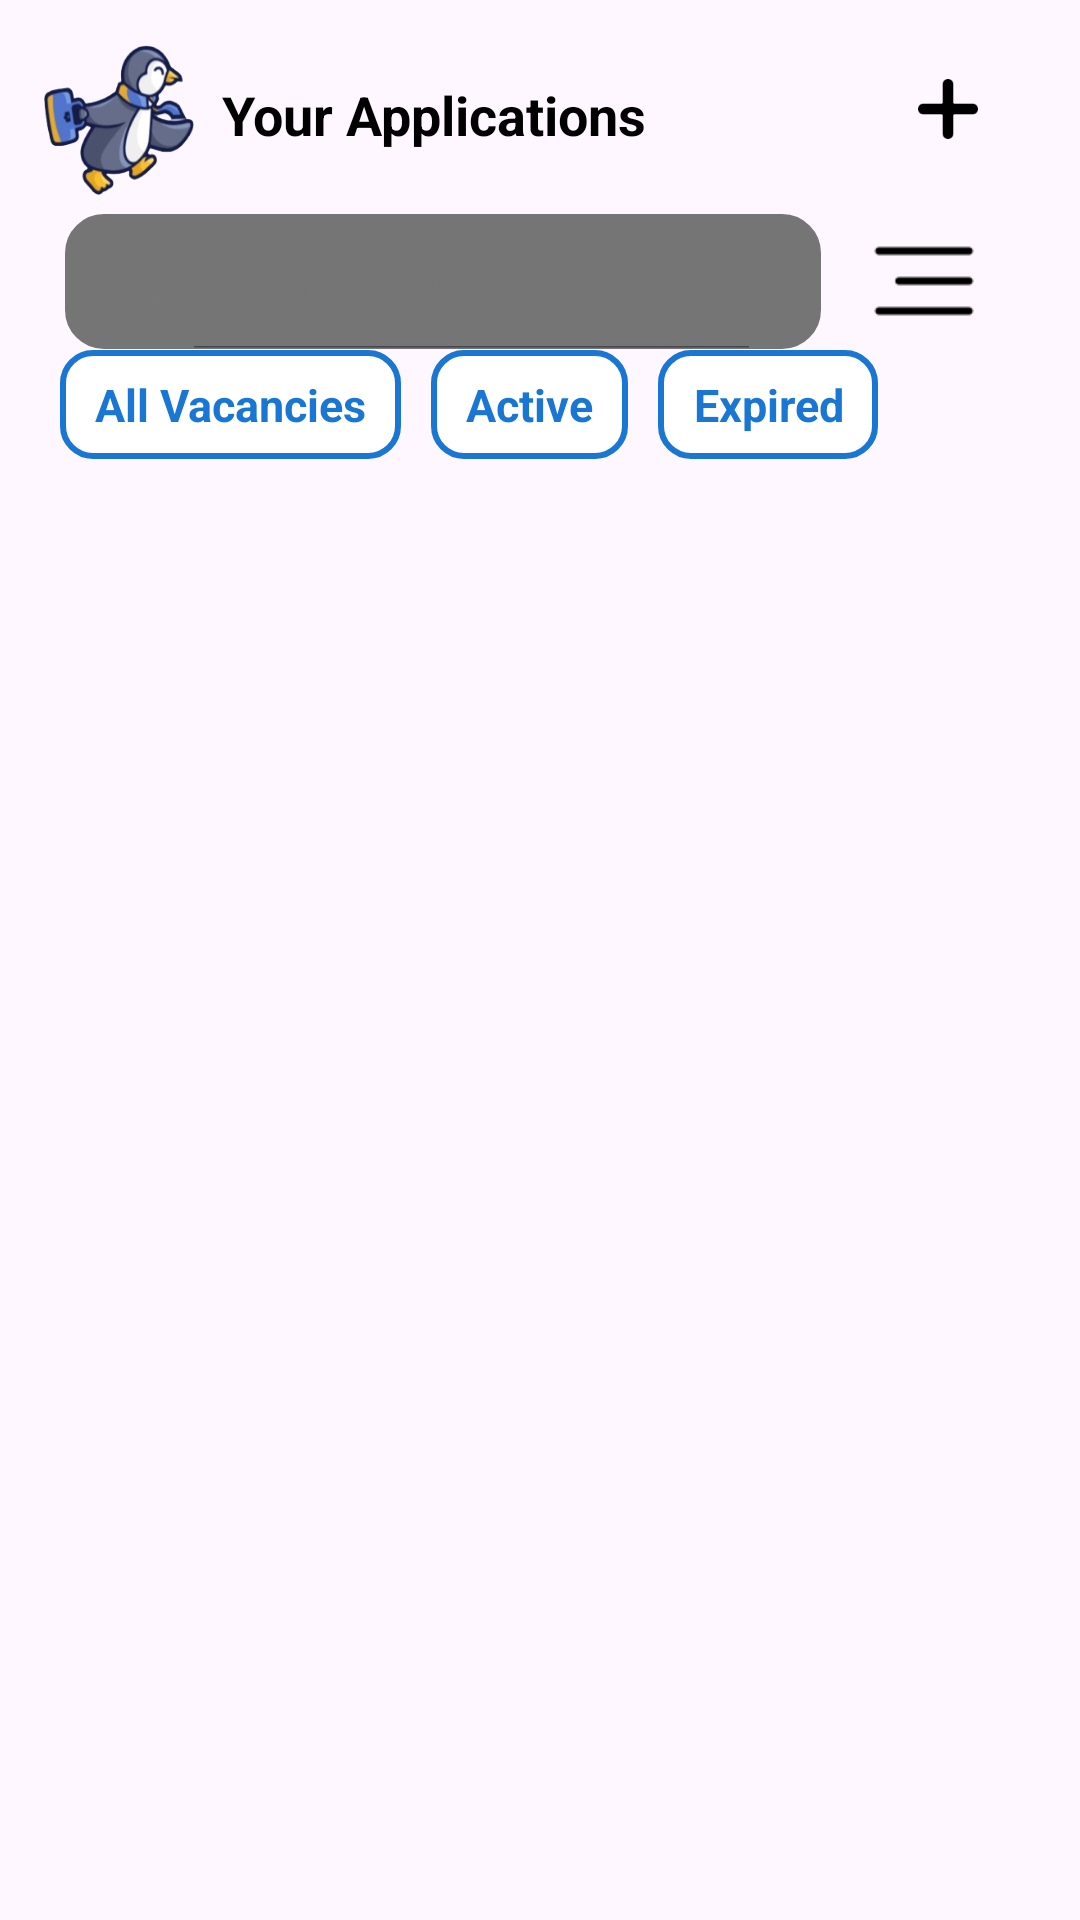

Where icons sit on this 1080w x 1920h app screen, as [x1,y1,x2,y2]:
add: [918,79,978,139]
filter: [874,246,974,316]
penguin: [44,45,194,195]
